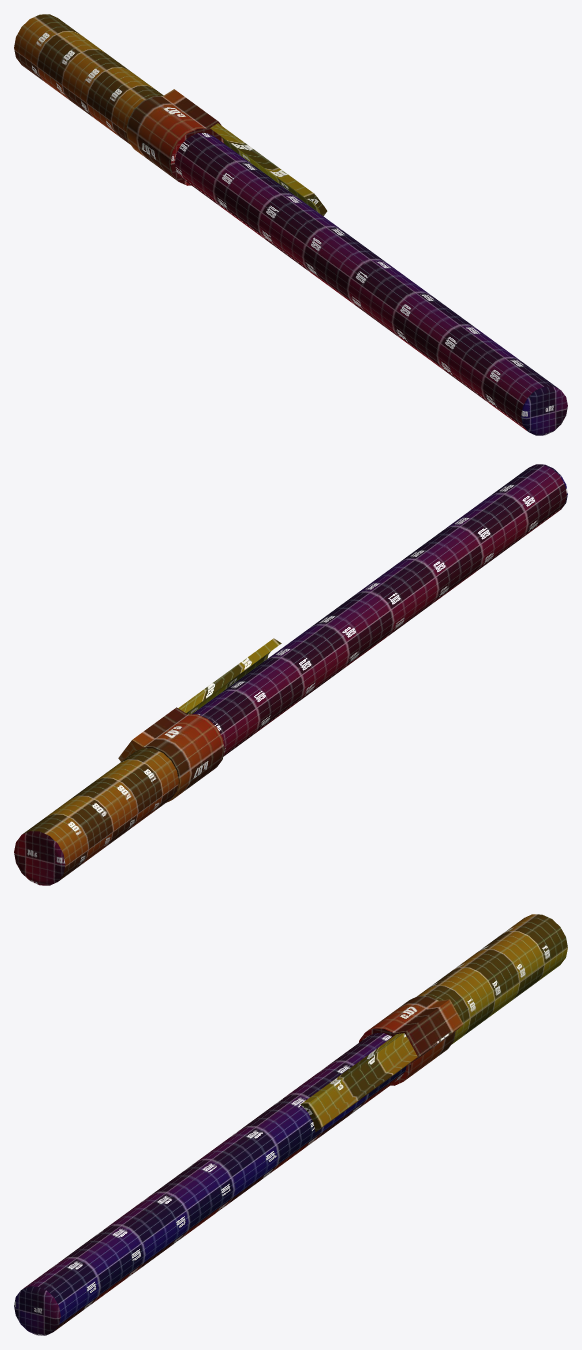
File: pen01.fbx
The picture shows the model from 3 angles, top to bottom: view 1: azimuth 30°, elevation 25°; view 2: azimuth 150°, elevation 25°; view 3: azimuth 330°, elevation 25°; orthographic projection.
Parts seen in each view (by area): view 1: pCylinder1; view 2: pCylinder1; view 3: pCylinder1.
Boxes of the visible parts, box(x1,y1,x2,y2) form: pCylinder1: box(14, 14, 567, 435); pCylinder1: box(14, 464, 567, 885); pCylinder1: box(14, 914, 567, 1335).
Bounding box in the file's own units: 1.07 × 0.9688 × 15.2.
